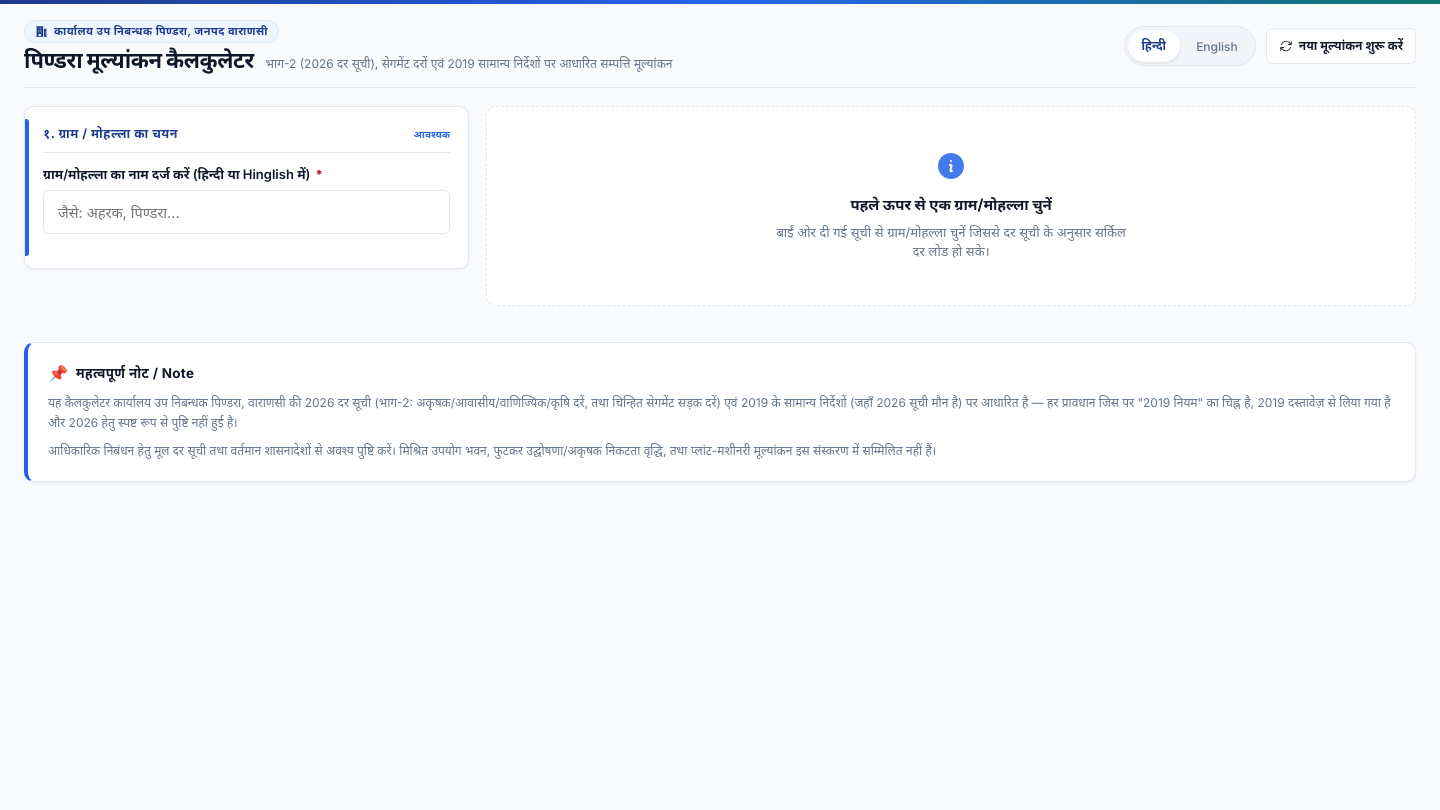
Test: App - end-to-end calculation flow › switches to English and shows English result labels for the same calculation
Click the button "English" at (1217, 46), box [1182,30,1252,62]
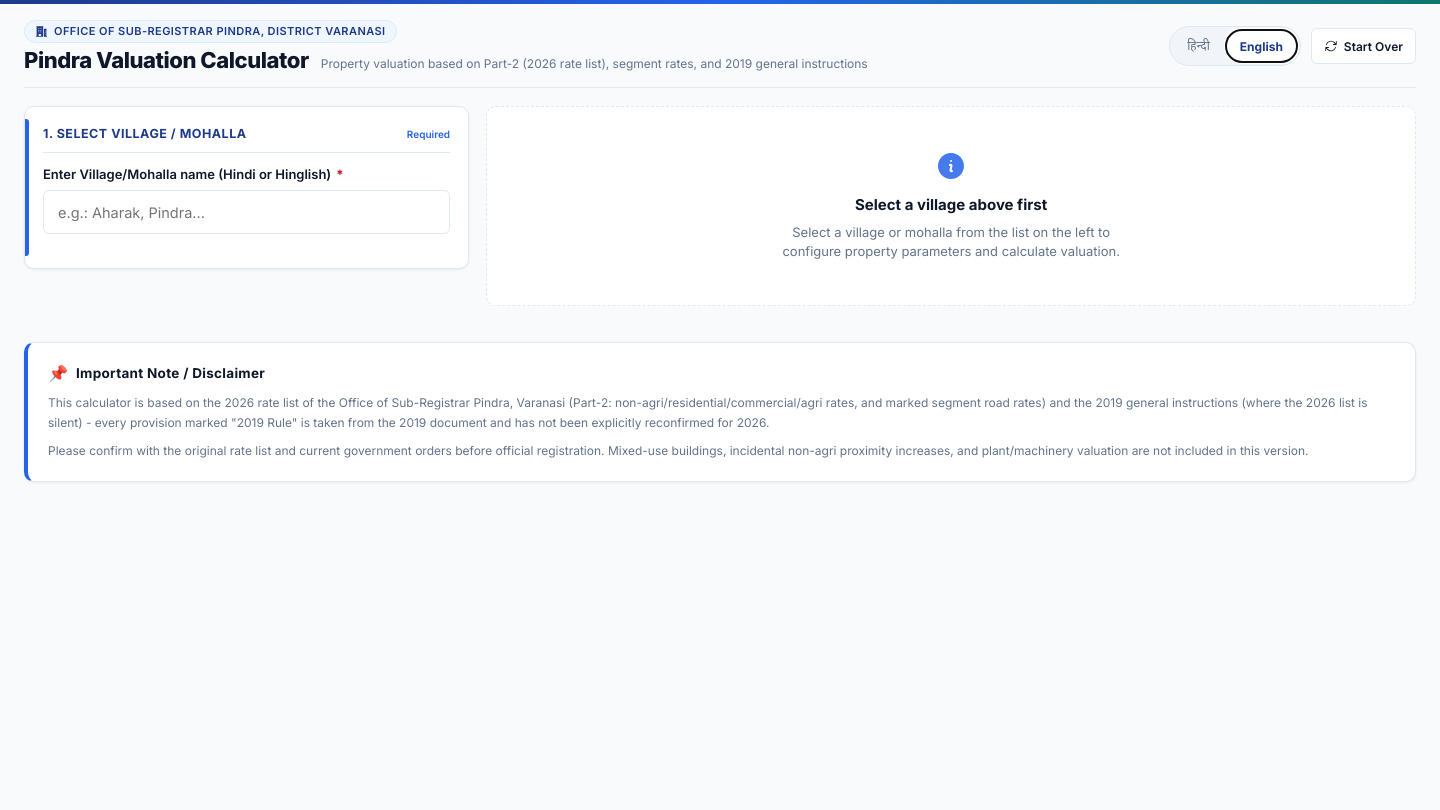
Type "aharak" into the dropdown labelled "Enter Village/Mohalla name (Hindi or Hinglish) *" at (247, 212), box [43,190,450,234]
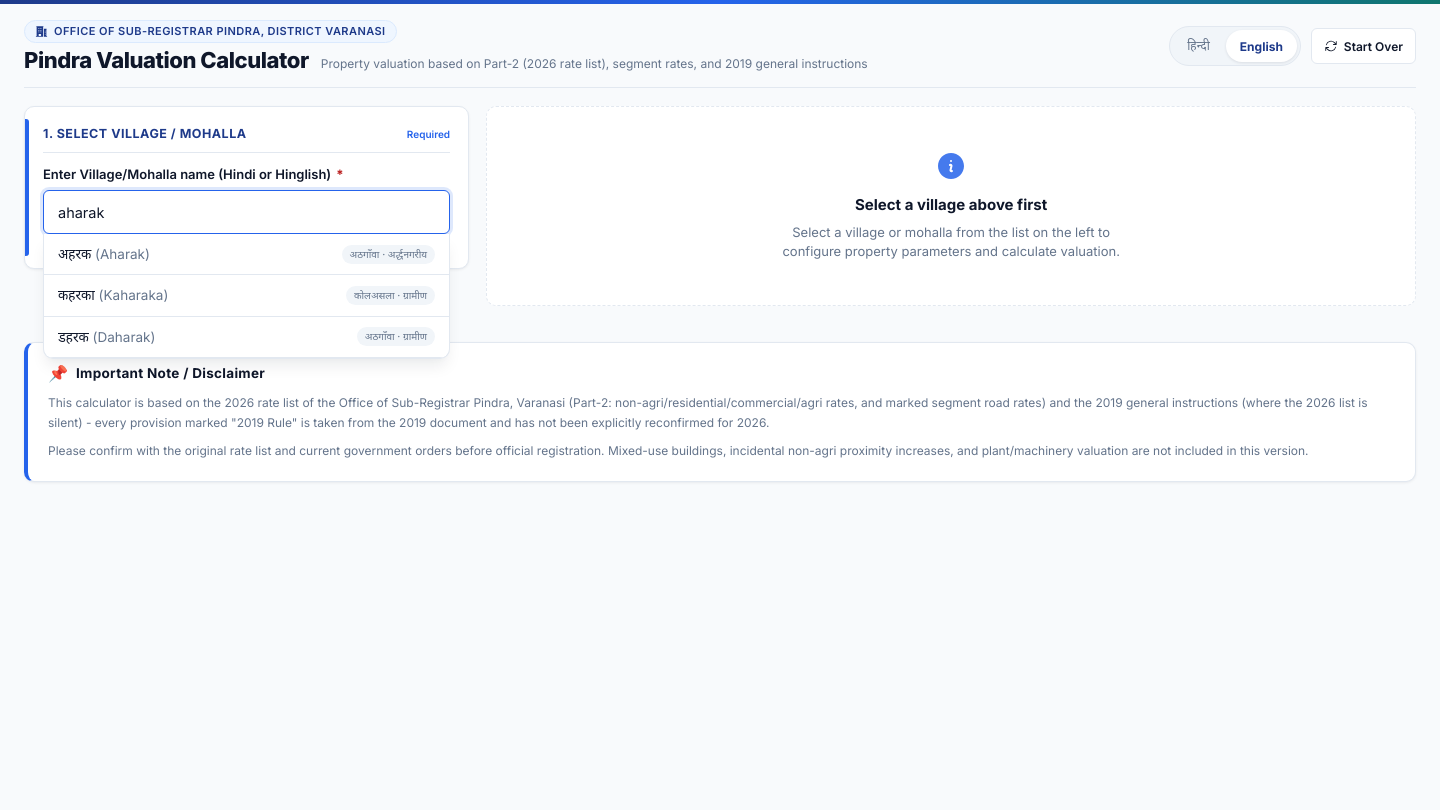
Click the option "अहरक (Aharak) अठगाँवा · अर्द्धनगरीय" at (75, 254), box [44,234,449,275]
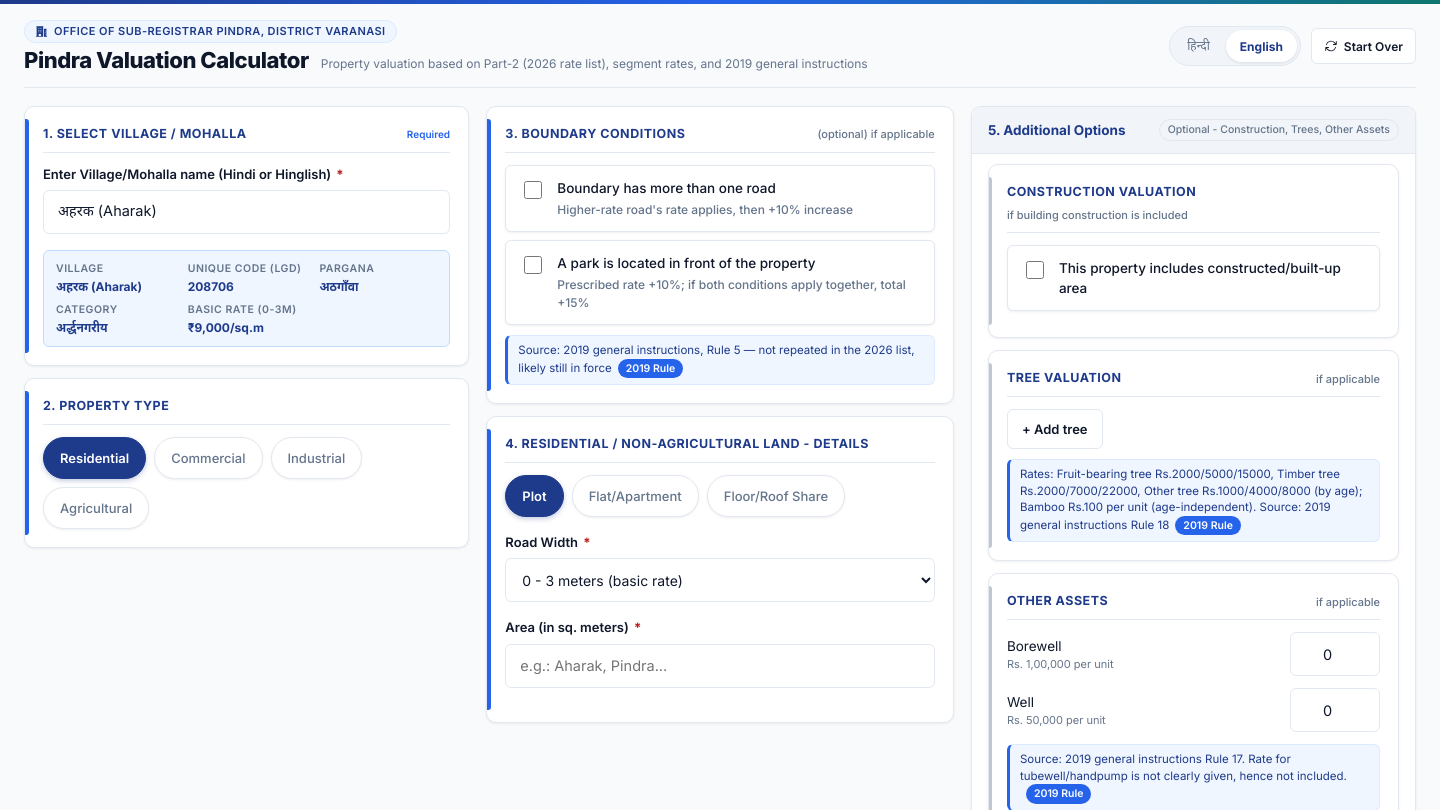
Type "100" into the number field labelled "Area (in sq. meters) *" at (720, 666), box [505,644,935,688]
(page scrolled)
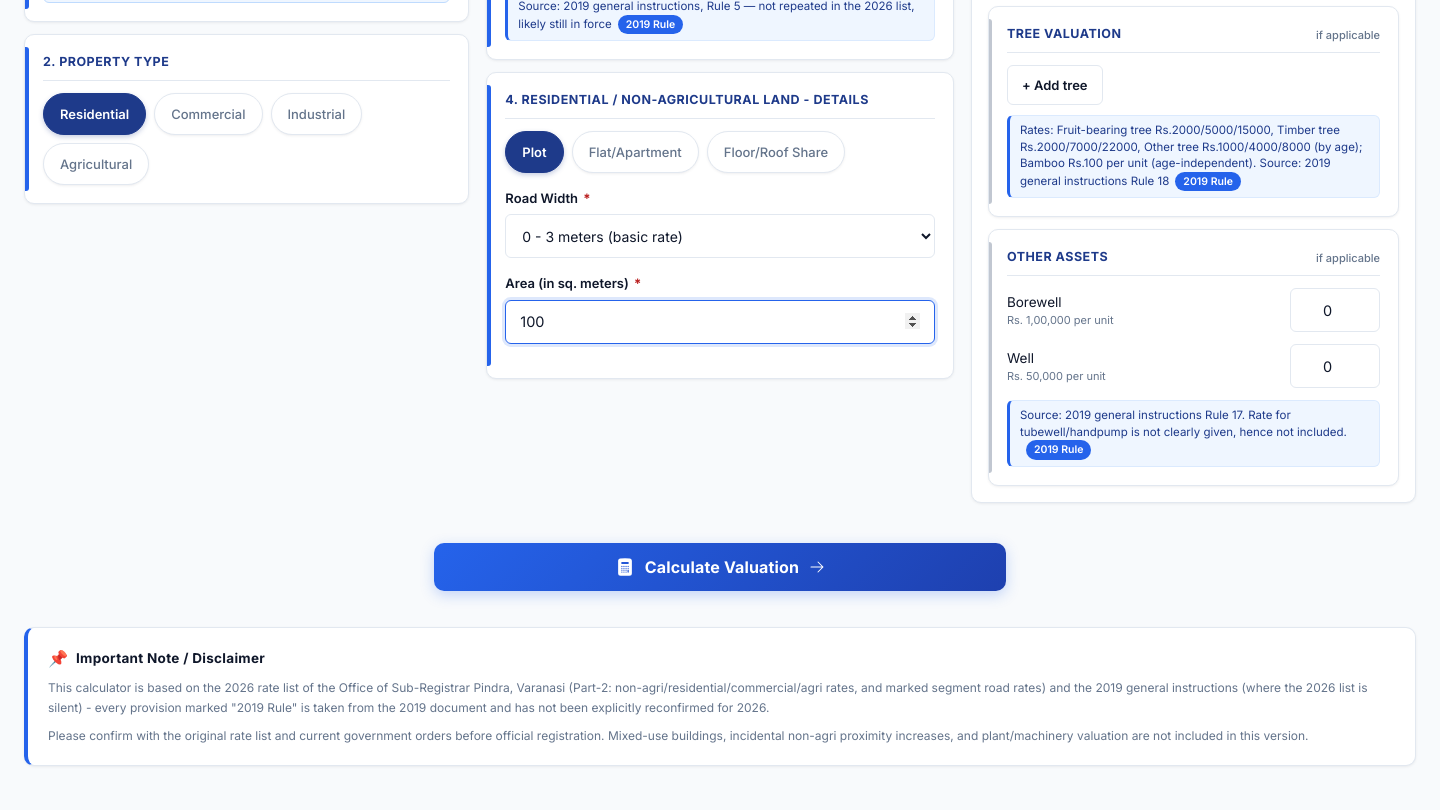
Click the button "Calculate Valuation" at (720, 567), box [434,543,1006,591]
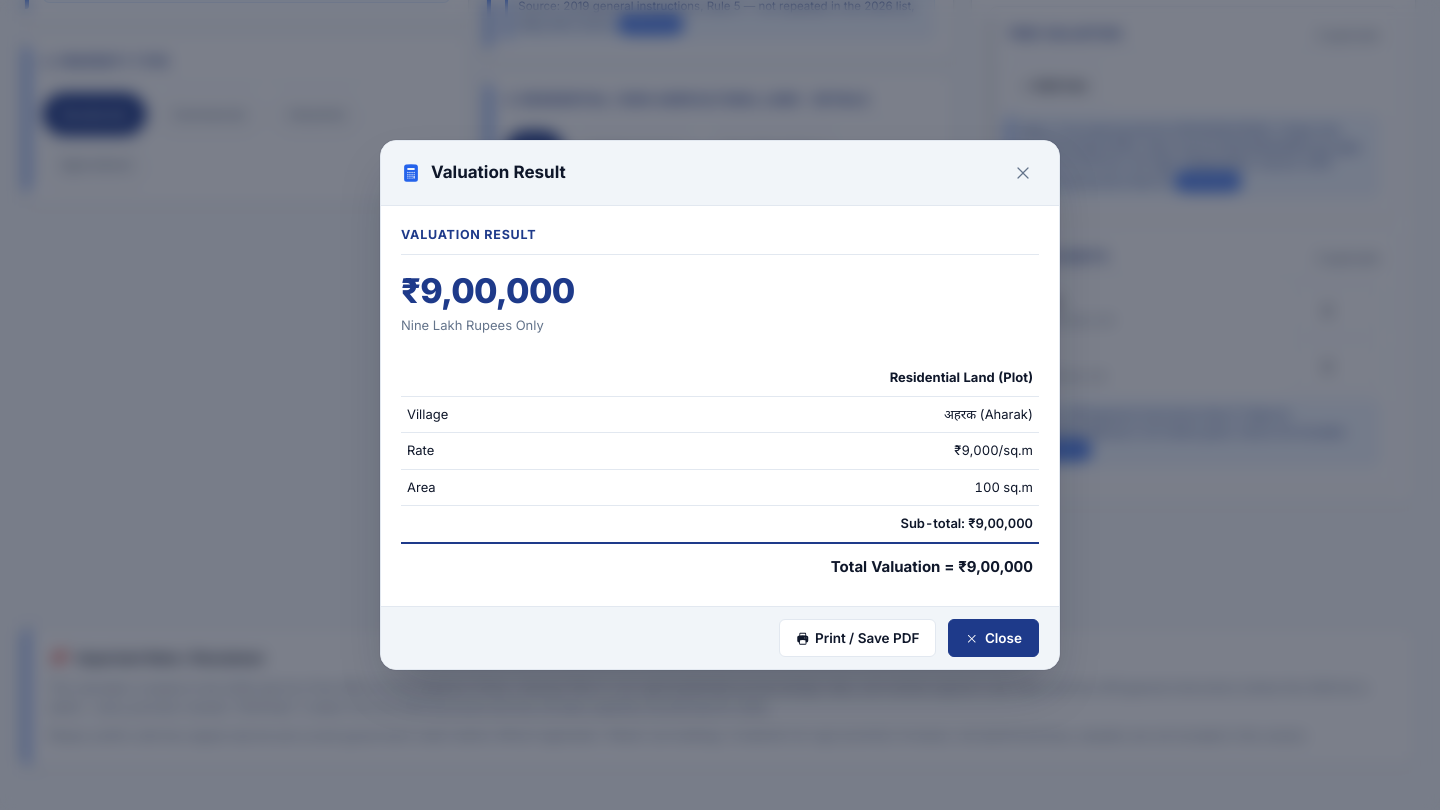
Check: the text "Total Valuation = ₹9,00,000" is shown, box [401,543,1039,586]
Check: the text "Nine Lakh Rupees Only" is shown, box [401,317,544,333]
